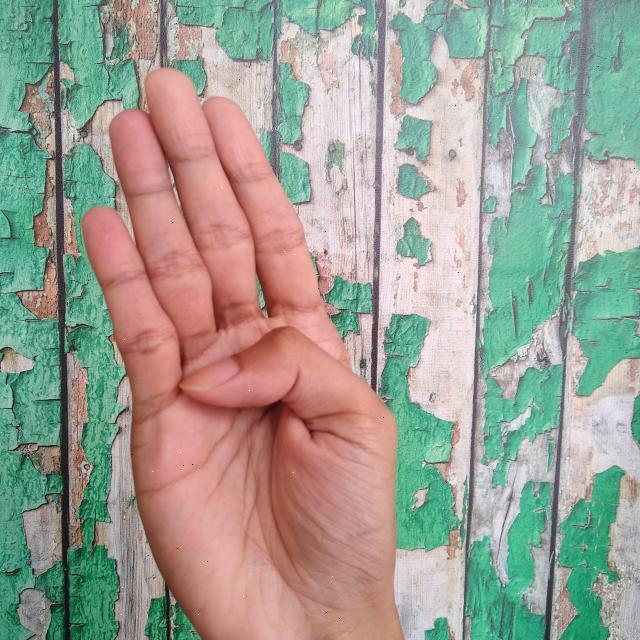B: (80, 64, 420, 640)
